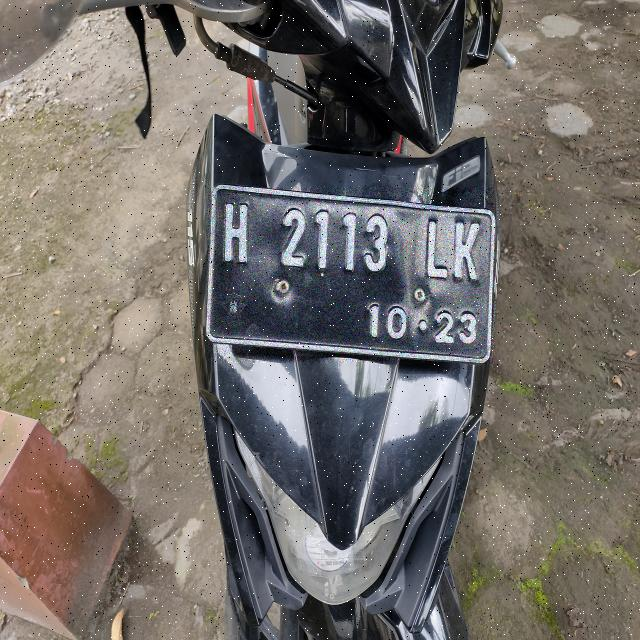plate: (207, 187, 494, 362)
